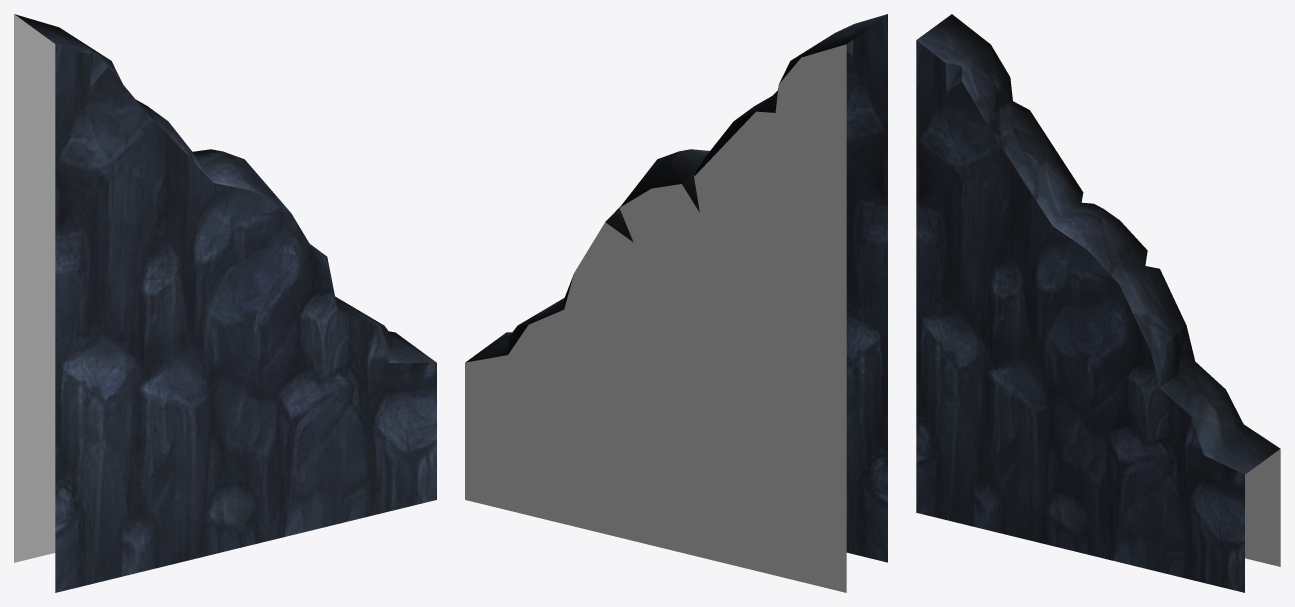
Rendered from mine_broken_tranwall_01.fbx.
The picture shows the model from 3 angles, left to right: view 1: azimuth 30°, elevation 25°; view 2: azimuth 150°, elevation 25°; view 3: azimuth 330°, elevation 25°; orthographic projection. The views are drawn at different scales.
Parts seen in each view (by area): view 1: obj2; view 2: obj2; view 3: obj2.
Part boxes in pixels (x1=…): obj2: x1=14, y1=14, x2=436, y2=592; obj2: x1=465, y1=14, x2=887, y2=592; obj2: x1=916, y1=14, x2=1280, y2=592.
Bounding box in the file's own units: 4 × 5.5 × 0.75.
